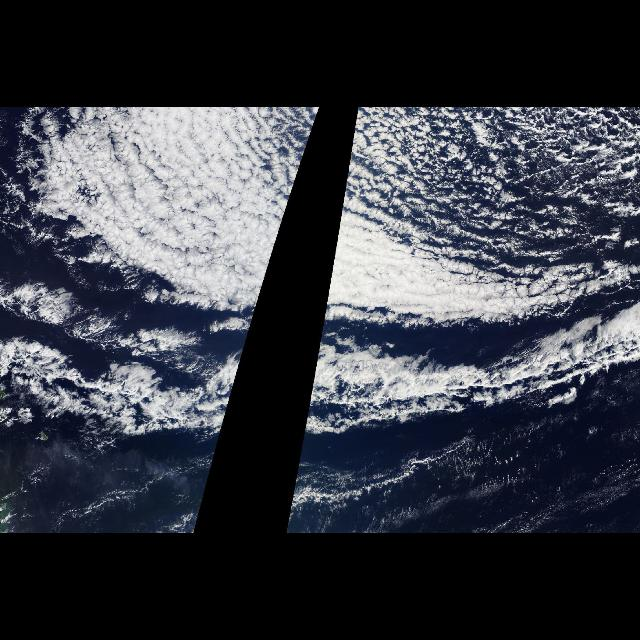Fish: (298, 308, 640, 444), (0, 308, 256, 444)
